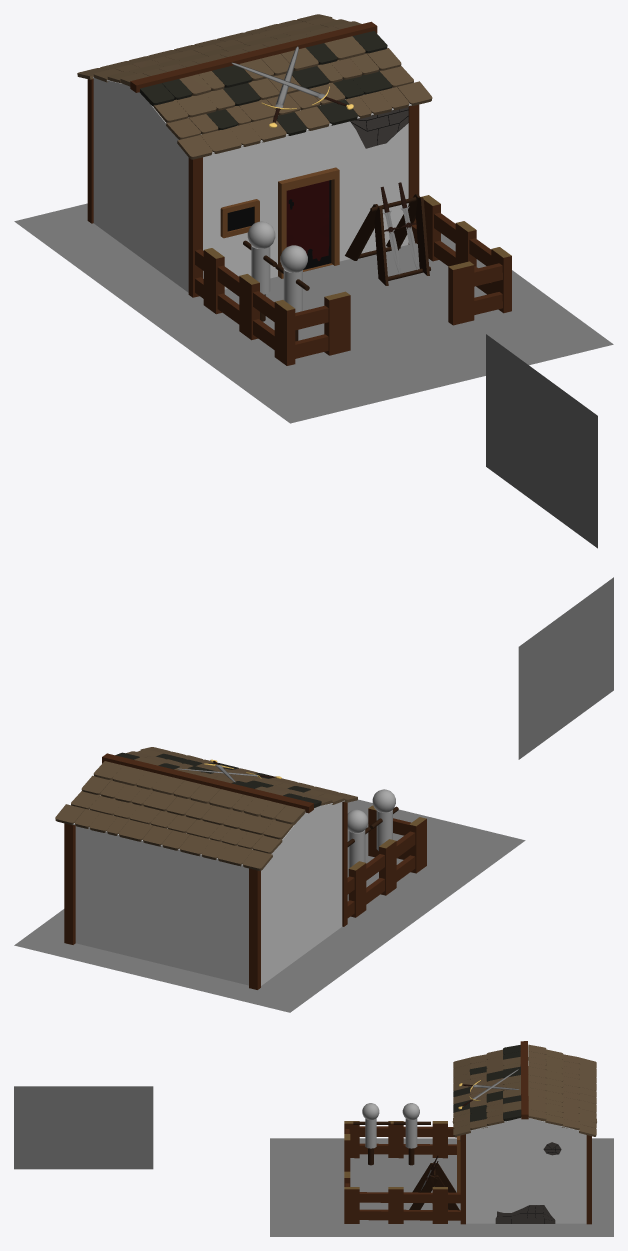
The model's file is Sword-Barracks.fbx.
The picture shows the model from 3 angles, top to bottom: view 1: azimuth 30°, elevation 25°; view 2: azimuth 150°, elevation 25°; view 3: azimuth 270°, elevation 25°; orthographic projection. The views are drawn at different scales.
Parts seen in each view (by area): view 1: Plane001, Box001, Plane005, Plane002, Box025, Box023, Box020, Box013, Box016, Box028, Box011, Box024 (+13 smaller); view 2: Box001, Plane001, Plane005, Box023, Box021, Box022, Box008, Box012, Box009, Box010, Box011, Box020; view 3: Plane001, Plane005, Box001, Box026, Box007, Box004, Box023, Box012, Box008, Box006, Box005, Box003 (+7 smaller).
Boxes of the visible parts, left/top/right/bottom form: Plane001: left=14, top=203, right=613, bottom=423; Box001: left=93, top=78, right=408, bottom=292; Plane005: left=486, top=334, right=597, bottom=548; Plane002: left=286, top=180, right=329, bottom=260; Box025: left=278, top=167, right=339, bottom=278; Box023: left=130, top=21, right=377, bottom=92; Box020: left=188, top=157, right=202, bottom=297; Box013: left=448, top=261, right=474, bottom=325; Box016: left=324, top=291, right=350, bottom=355; Box028: left=350, top=107, right=408, bottom=148; Box011: left=274, top=300, right=295, bottom=365; Box024: left=220, top=199, right=259, bottom=238; Box001: left=75, top=802, right=342, bottom=985; Plane001: left=14, top=799, right=525, bottom=1012; Plane005: left=518, top=577, right=613, bottom=759; Box023: left=102, top=753, right=313, bottom=813; Box021: left=64, top=823, right=75, bottom=944; Box022: left=249, top=868, right=260, bottom=989; Box008: left=348, top=861, right=366, bottom=917; Box012: left=347, top=855, right=415, bottom=917; Box009: left=347, top=831, right=415, bottom=894; Box010: left=379, top=839, right=396, bottom=895; Box011: left=409, top=817, right=426, bottom=873; Box020: left=342, top=802, right=347, bottom=926; Plane001: left=270, top=1138, right=613, bottom=1236; Plane005: left=14, top=1086, right=153, bottom=1169; Box001: left=466, top=1118, right=586, bottom=1223; Box026: left=495, top=1205, right=555, bottom=1223; Box007: left=359, top=1209, right=460, bottom=1220; Box004: left=359, top=1192, right=460, bottom=1203; Box023: left=520, top=1041, right=528, bottom=1119; Box012: left=359, top=1143, right=456, bottom=1154; Box008: left=432, top=1121, right=447, bottom=1158; Box006: left=344, top=1187, right=359, bottom=1223; Box005: left=388, top=1187, right=403, bottom=1223; Box003: left=432, top=1187, right=447, bottom=1223.
Bounding box in the file's own units: 217 × 116 × 559.
